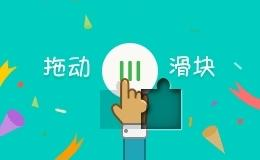target: (122, 69, 162, 109)
